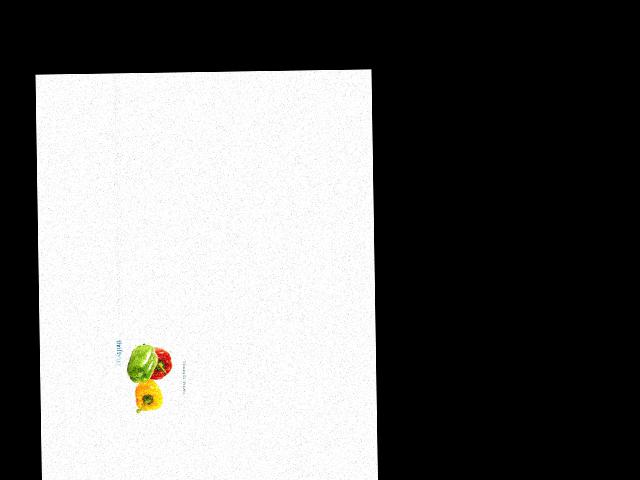bell_pepper: (123, 342, 157, 386)
